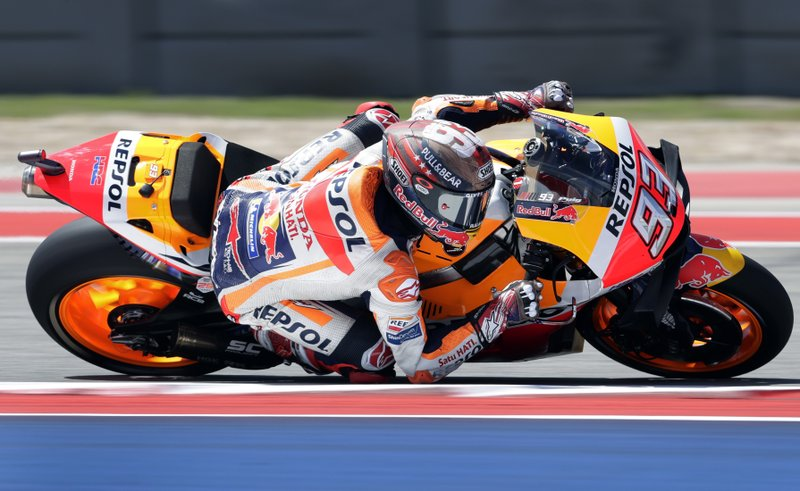helmet: (369, 114, 497, 265)
